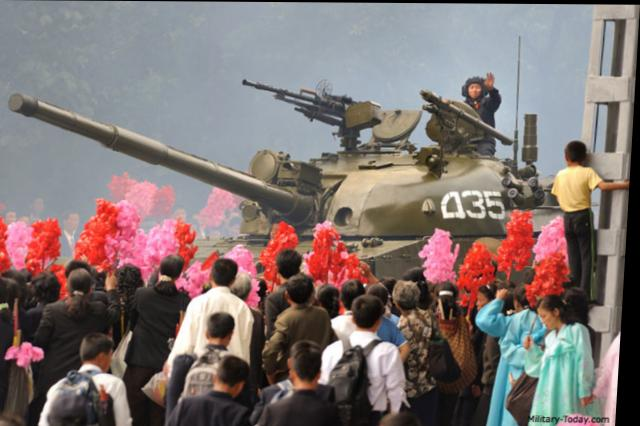other: (331, 302, 407, 419), (46, 331, 135, 424), (551, 138, 605, 287), (536, 297, 601, 419), (35, 267, 116, 358), (131, 255, 194, 372), (181, 354, 264, 423), (268, 350, 334, 424), (193, 255, 259, 313), (0, 277, 21, 416), (459, 73, 506, 123)
tank: (13, 85, 564, 273)
